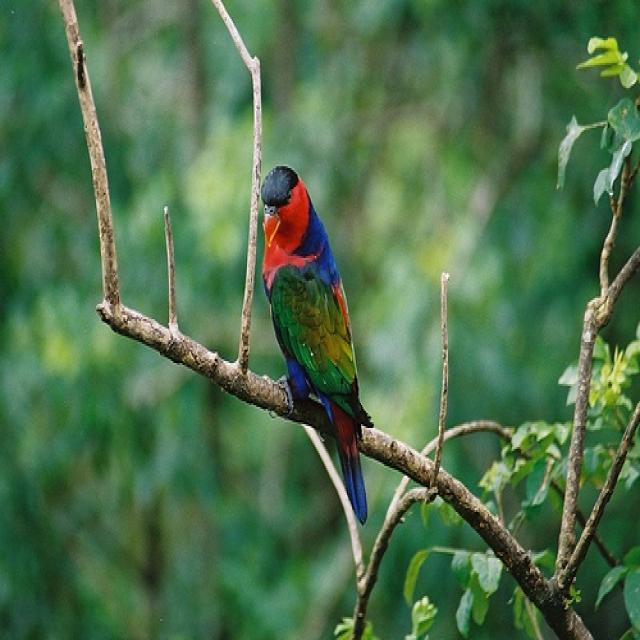bird: (258, 162, 376, 530)
